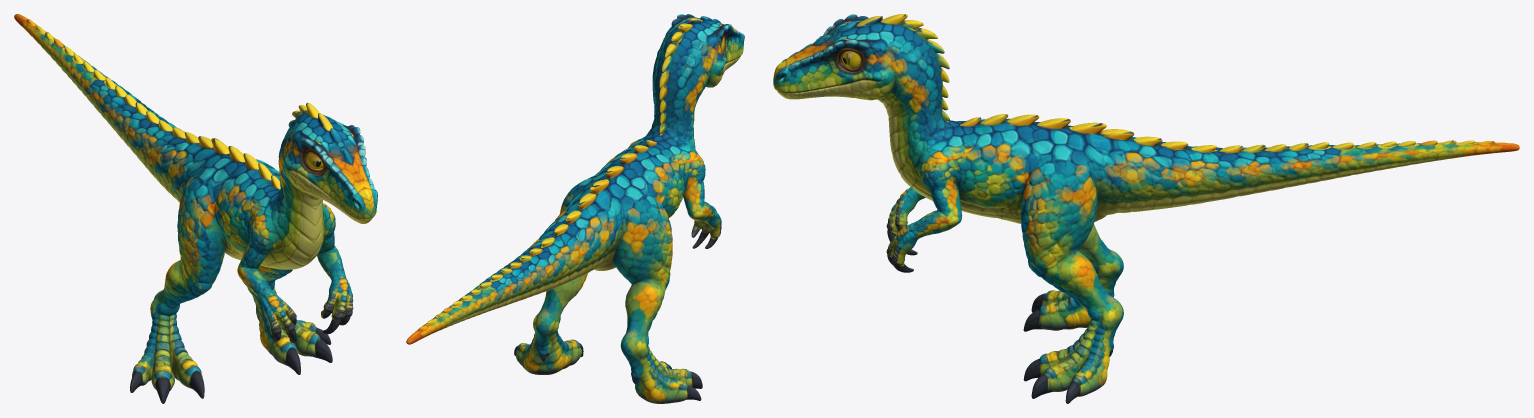
File: Raptor.glb
The picture shows the model from 3 angles, left to right: view 1: azimuth 30°, elevation 25°; view 2: azimuth 150°, elevation 25°; view 3: azimuth 270°, elevation 25°; orthographic projection. The views are drawn at different scales.
Size of the model in its own units: 0.6197 by 0.9618 by 1.9.
Materials: 1 (1 with a texture image).
